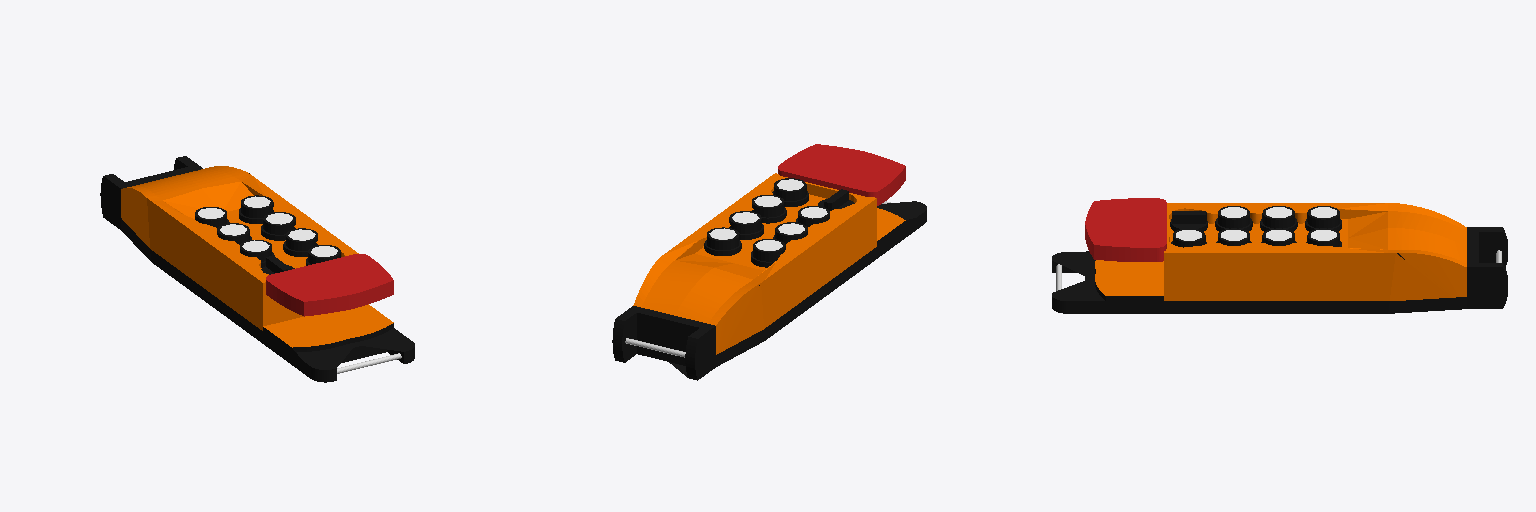
Rendered from Remote.obj.
The picture shows the model from 3 angles: view 1: azimuth 30°, elevation 25°; view 2: azimuth 150°, elevation 25°; view 3: azimuth 270°, elevation 25°; orthographic projection.
Visible parts, largest first — view 1: Mesh17 Group4 Model, Mesh18 Group5 Model, Mesh1 Group1 Model, Mesh15 Group3 Model, Mesh14 Group3 Model, Mesh13 Group3 Model; view 2: Mesh17 Group4 Model, Mesh18 Group5 Model, Mesh1 Group1 Model, Mesh14 Group3 Model, Mesh16 Group3 Model, Mesh15 Group3 Model, Mesh13 Group3 Model; view 3: Mesh17 Group4 Model, Mesh18 Group5 Model, Mesh1 Group1 Model, Mesh12 Group3 Model, Mesh10 Group3 Model, Mesh9 Group3 Model, Mesh11 Group3 Model.
Boxes of the visible parts, x1=… form: Mesh17 Group4 Model: x1=121, y1=166, x2=393, y2=347; Mesh18 Group5 Model: x1=100, y1=156, x2=414, y2=382; Mesh1 Group1 Model: x1=266, y1=254, x2=393, y2=316; Mesh15 Group3 Model: x1=261, y1=212, x2=295, y2=240; Mesh14 Group3 Model: x1=239, y1=195, x2=273, y2=223; Mesh13 Group3 Model: x1=283, y1=228, x2=317, y2=256; Mesh17 Group4 Model: x1=633, y1=173, x2=905, y2=354; Mesh18 Group5 Model: x1=612, y1=201, x2=926, y2=380; Mesh1 Group1 Model: x1=778, y1=144, x2=905, y2=205; Mesh14 Group3 Model: x1=704, y1=227, x2=741, y2=255; Mesh16 Group3 Model: x1=772, y1=178, x2=808, y2=206; Mesh15 Group3 Model: x1=729, y1=211, x2=763, y2=239; Mesh13 Group3 Model: x1=751, y1=195, x2=786, y2=223; Mesh17 Group4 Model: x1=1095, y1=203, x2=1466, y2=300; Mesh18 Group5 Model: x1=1052, y1=227, x2=1507, y2=313; Mesh1 Group1 Model: x1=1085, y1=198, x2=1166, y2=261; Mesh12 Group3 Model: x1=1170, y1=211, x2=1207, y2=231; Mesh10 Group3 Model: x1=1260, y1=206, x2=1297, y2=231; Mesh9 Group3 Model: x1=1215, y1=206, x2=1252, y2=231; Mesh11 Group3 Model: x1=1305, y1=206, x2=1341, y2=231.
Size of the model in its own units: 10.5 by 6.5 by 40.73.